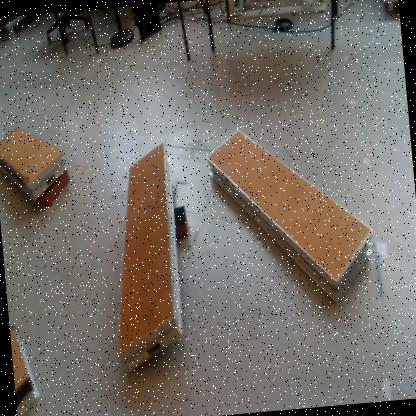Stairs: (208, 130, 373, 303), (122, 142, 184, 374), (1, 129, 68, 203), (11, 326, 40, 416)
